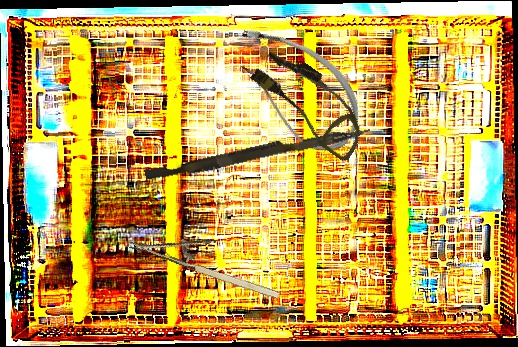Cannula: (210, 11, 379, 165), (241, 41, 380, 164)
Needle Holder: (124, 210, 290, 304)
Pusher: (144, 118, 371, 187)
